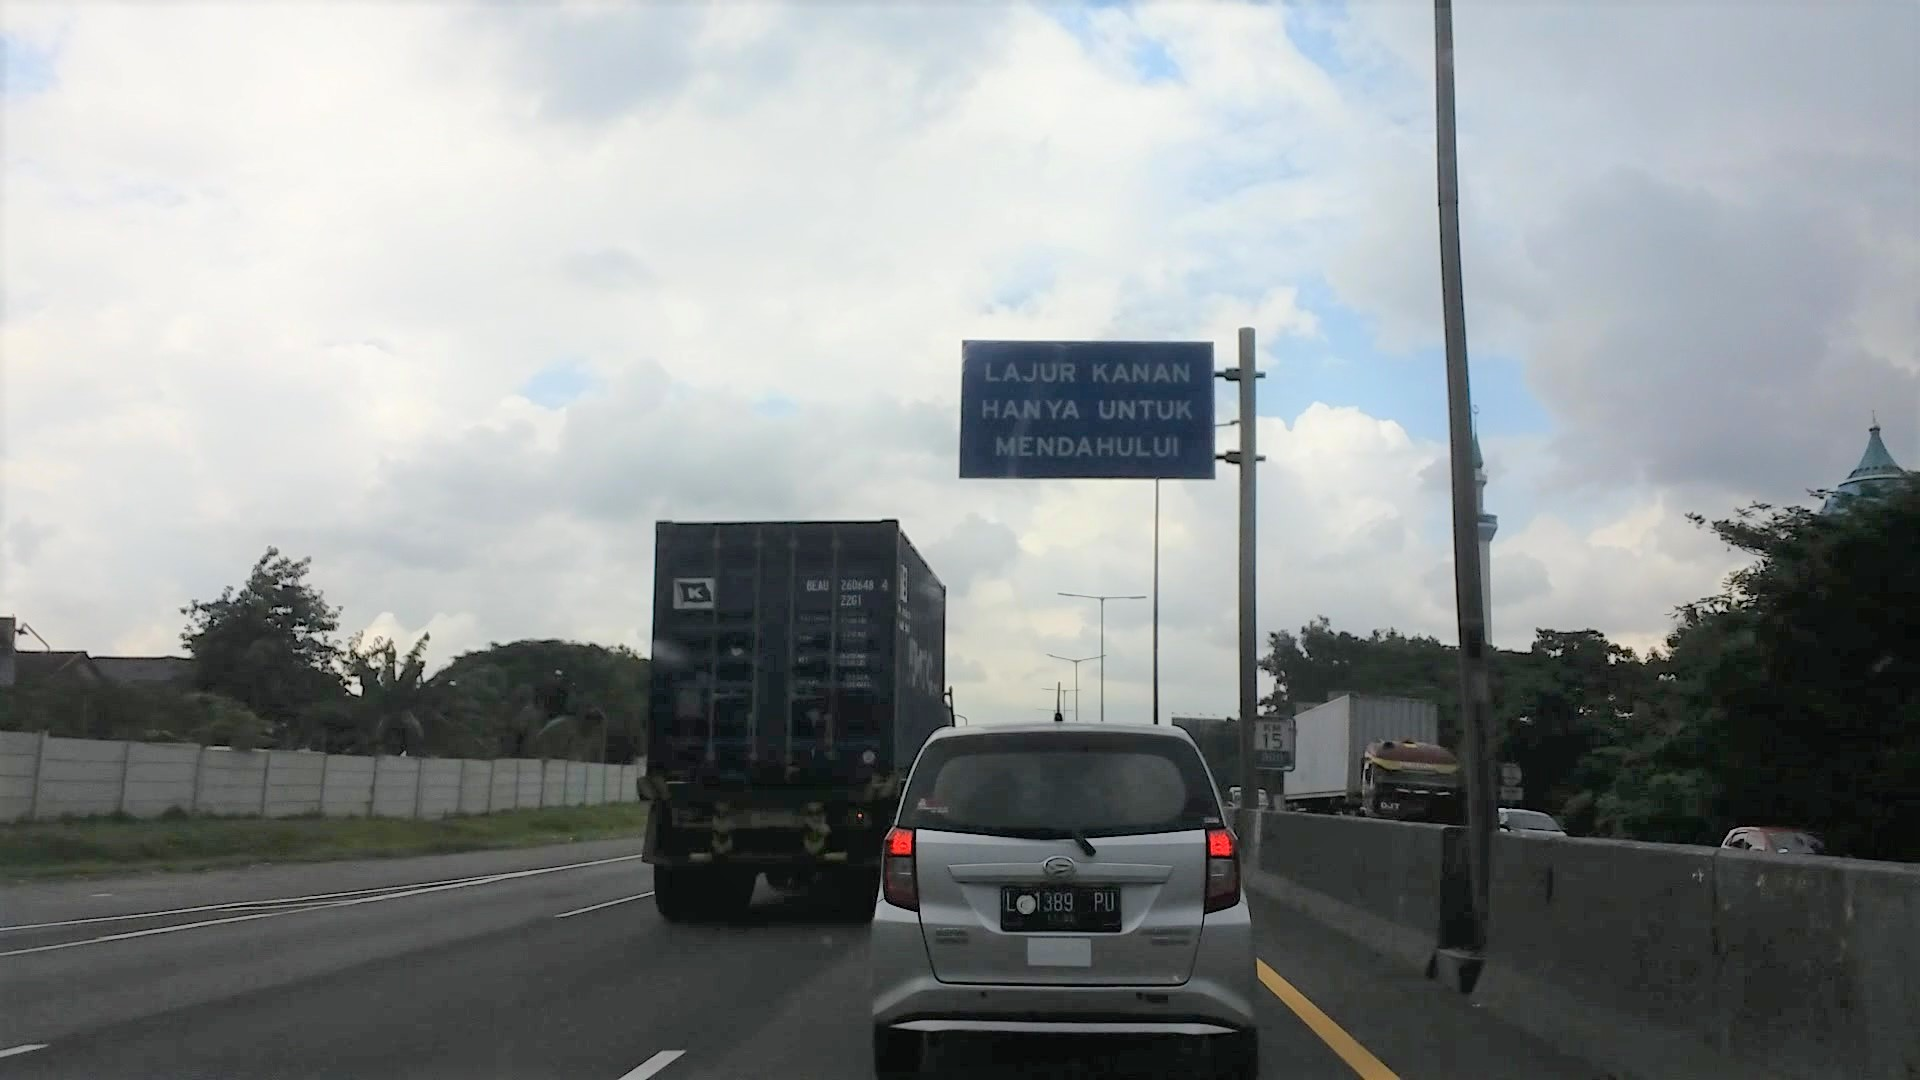plate_positive: (1000, 885, 1122, 932)
